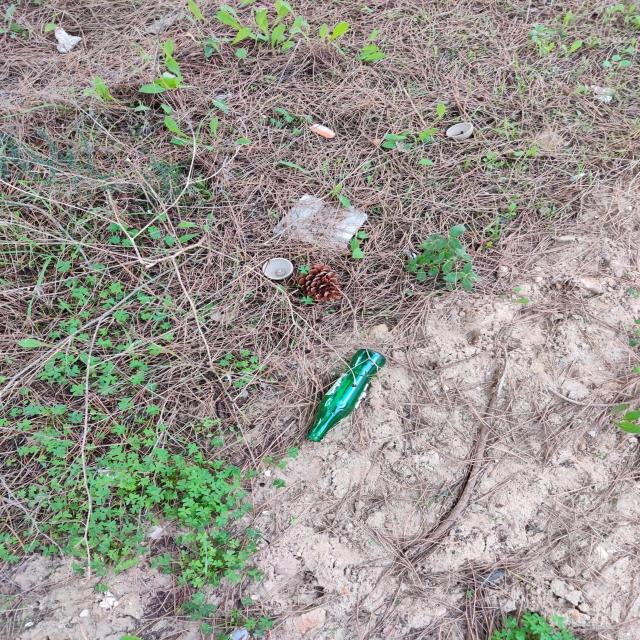litter: (306, 351, 387, 442), (273, 193, 368, 250), (262, 259, 291, 278), (447, 122, 474, 140)
